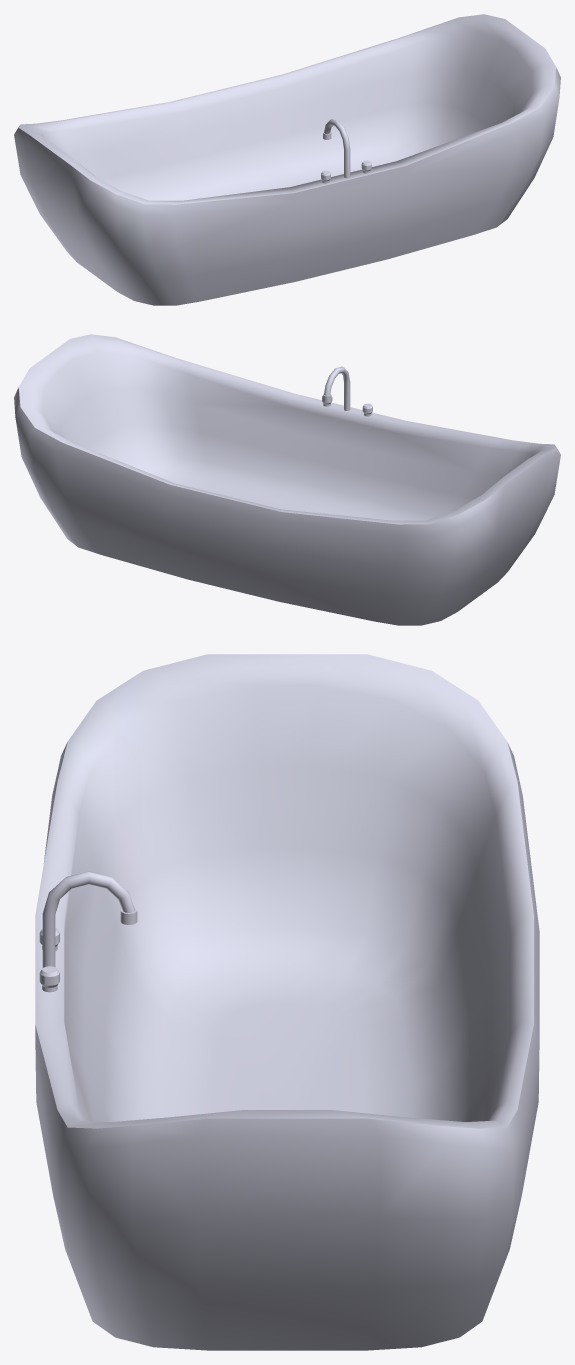
File: obj_bathtub_2x1.FBX
3 views of the same model, one above another, from view 1: azimuth 30°, elevation 25°; view 2: azimuth 150°, elevation 25°; view 3: azimuth 270°, elevation 25° (orthographic). The views are drawn at different scales.
Parts seen in each view (by area): view 1: obj_bathtub_2x1; view 2: obj_bathtub_2x1; view 3: obj_bathtub_2x1.
Part boxes in pixels (x1,y1,x2,y2): obj_bathtub_2x1: (14,14,560,305); obj_bathtub_2x1: (14,334,560,625); obj_bathtub_2x1: (35,654,539,1350).
Bounding box in the file's own units: 1.83 × 0.536 × 0.836.
1 material, 1 textured.
